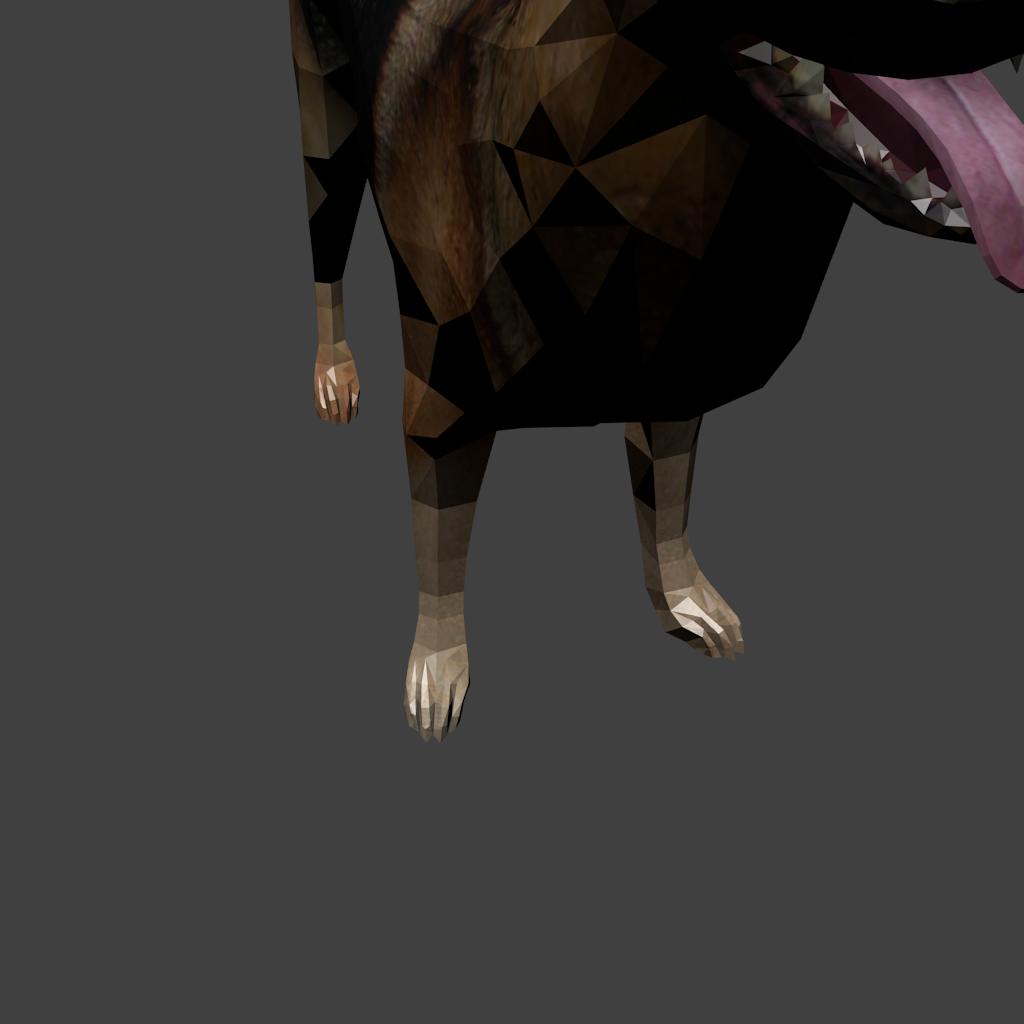Dog: (288, 0, 736, 743)
